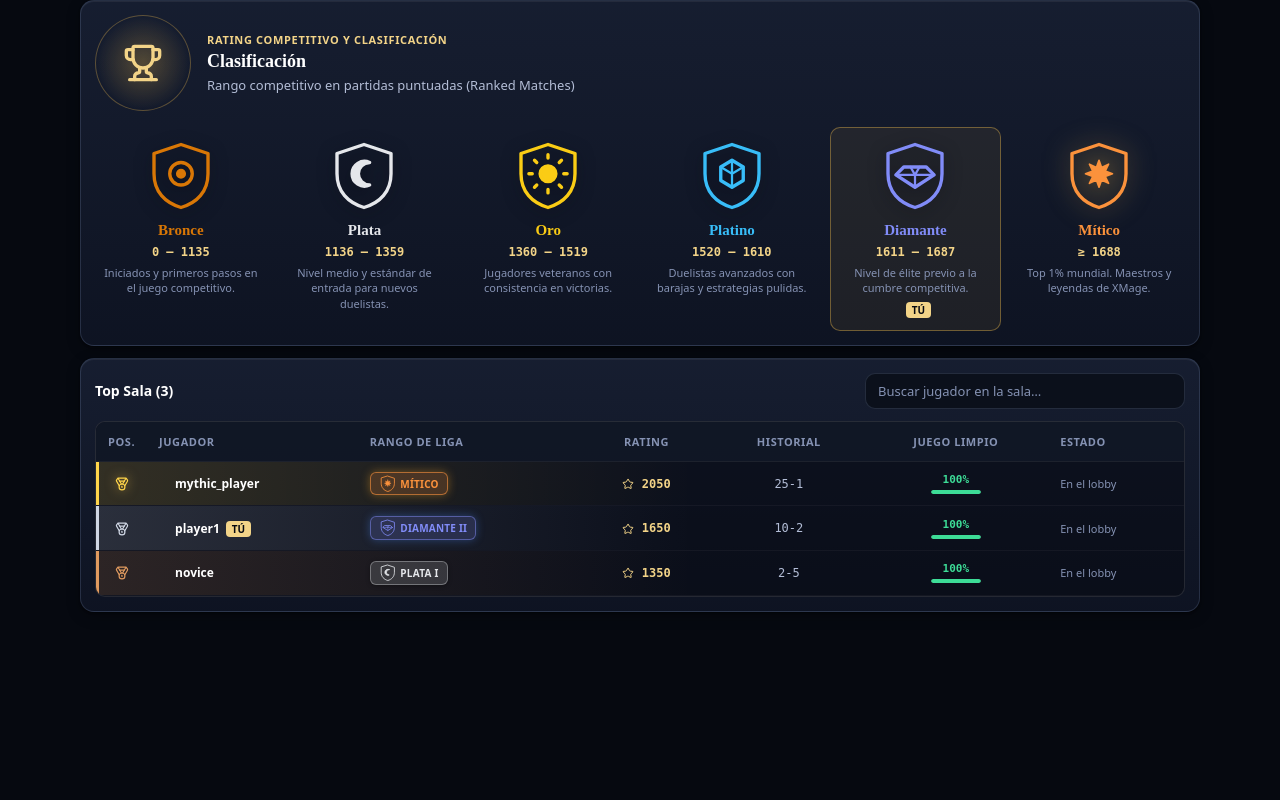
Test case: RankingView Component › shows the no-results state when the search matches nobody
Step 1. Type "zzz" into the field with placeholder "Buscar jugador en la sala…" → (1025, 391), box [865, 373, 1185, 409]
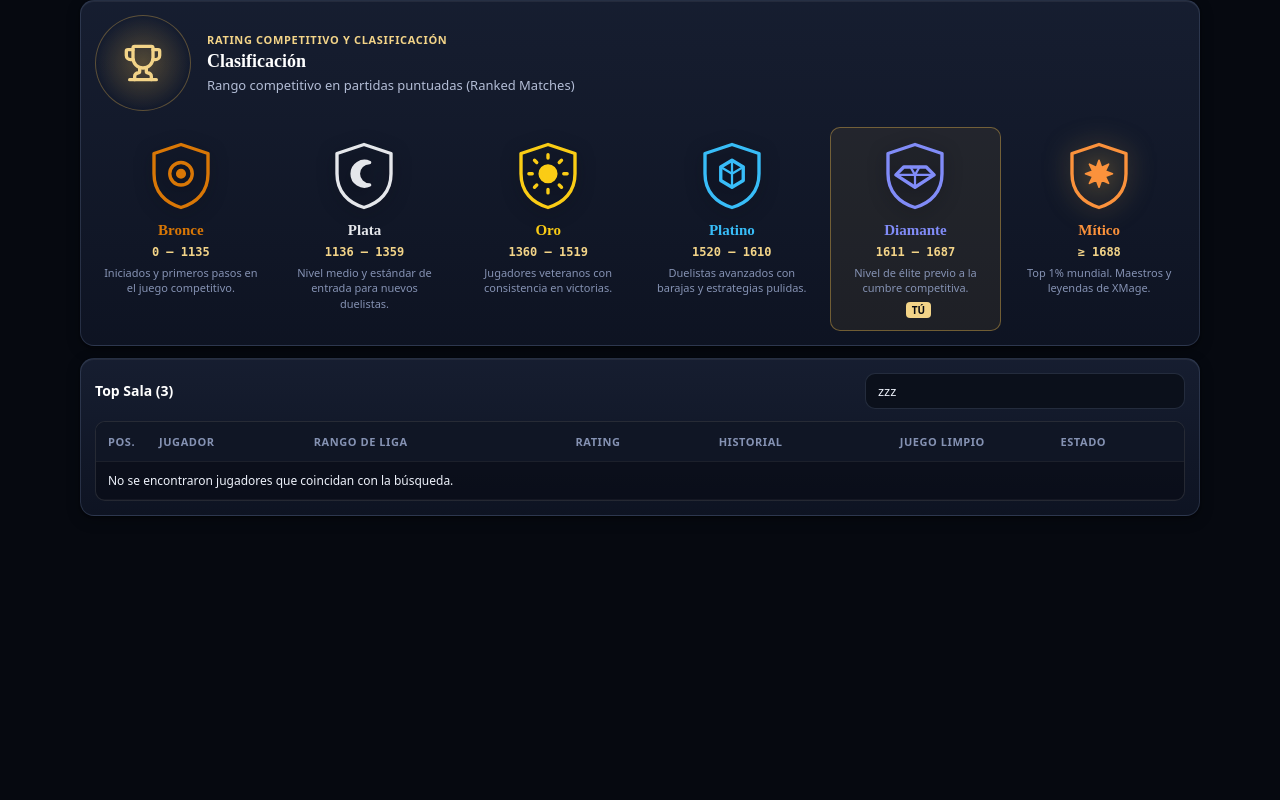
Expected: the text "No se encontraron jugadores que coincidan con la búsqueda." is shown, [108, 472, 453, 489]
